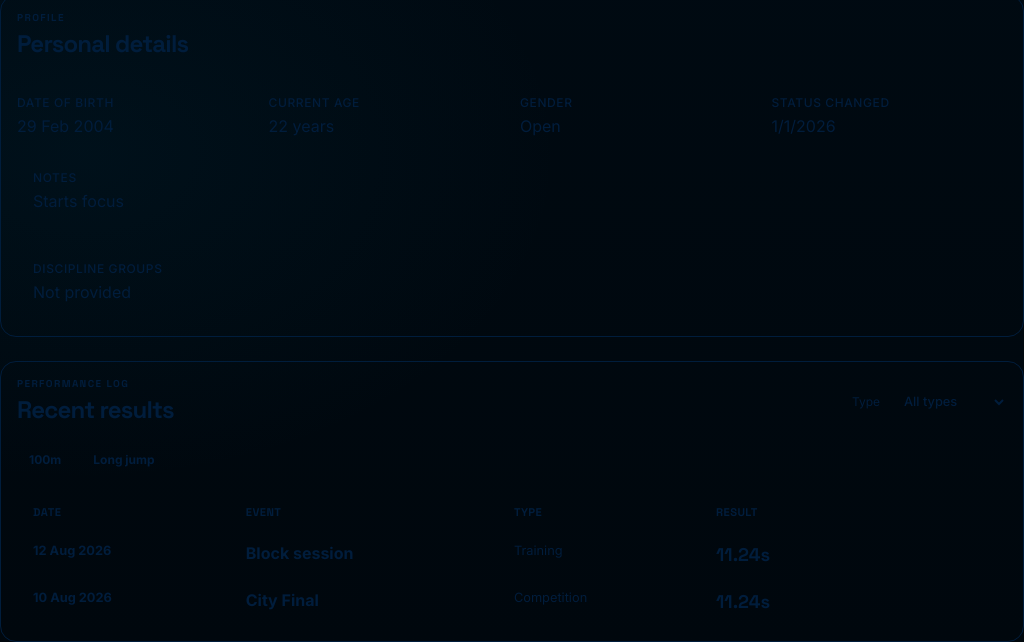
Test: AthleteDetailPage › splits the log into one tab per discipline, with no combined tab
(page scrolled)
Expected: the table named "Recent results" is shown, [17,493,1007,625]
Expected: the text "Block session" is shown, [246,543,354,563]
Click the tab "Long jump" at (124, 459), box [81,441,167,477]
(page scrolled)
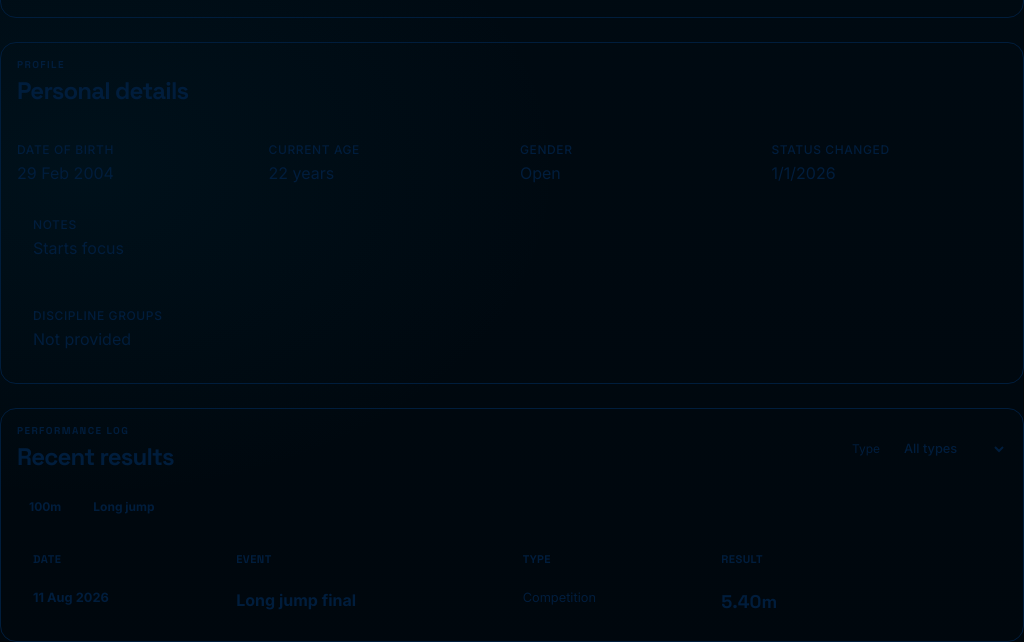
Expected: the text "Long jump final" is shown, [236,590,356,610]
Expected: the text "5.40m" is shown, [721,590,777,613]
Expected: the text "Block session" is gone
